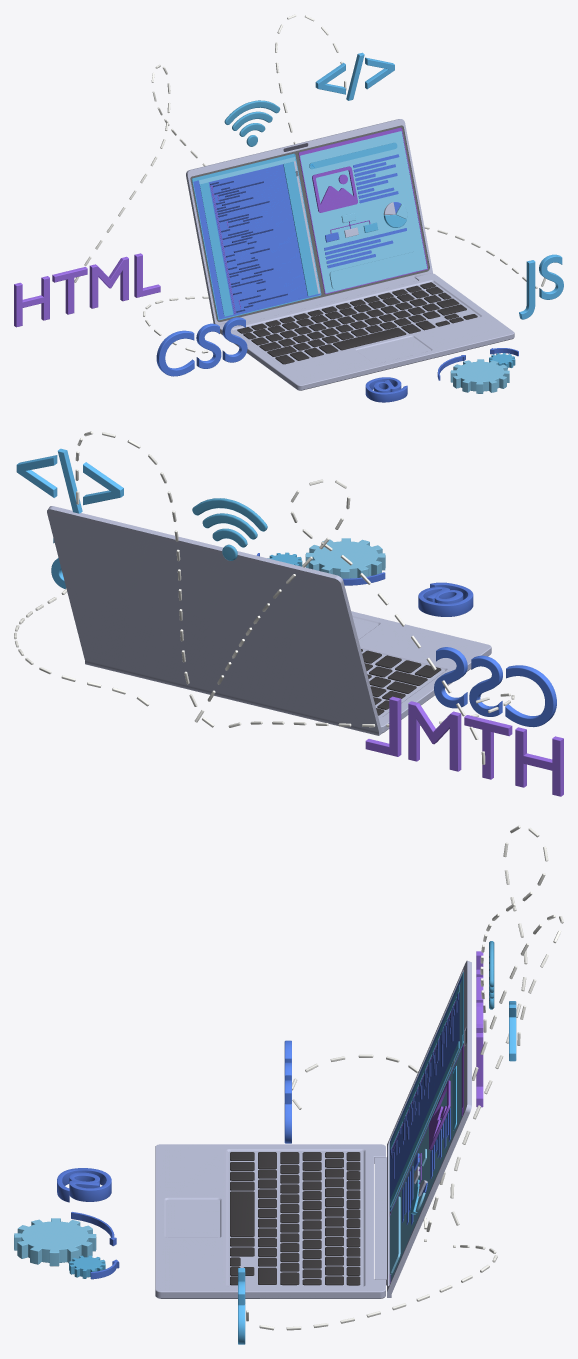
The model's file is htmlIcon-transformed.glb.
3 renders of one model, top to bottom at view 1: azimuth 30°, elevation 25°; view 2: azimuth 150°, elevation 25°; view 3: azimuth 270°, elevation 25°, orthographic. The views are drawn at different scales.
Visible parts, largest first — view 1: JS_text.001_0; view 2: JS_text.001_0; view 3: JS_text.001_0.
Part boxes in pixels (x1,y1,x2,y2): JS_text.001_0: [14, 14, 563, 402]; JS_text.001_0: [14, 431, 563, 796]; JS_text.001_0: [14, 825, 563, 1344].
Bounding box in the file's own units: 10.39 × 5.32 × 7.69.
1 material, 1 textured.
